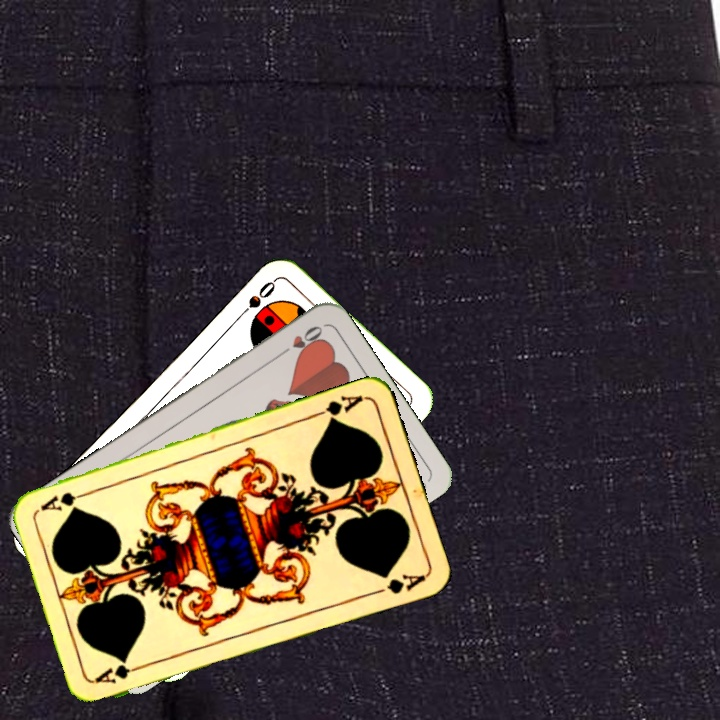GA: (310, 391, 367, 425), (91, 658, 149, 687)
HO: (274, 321, 326, 360)
SO: (232, 276, 278, 323)
